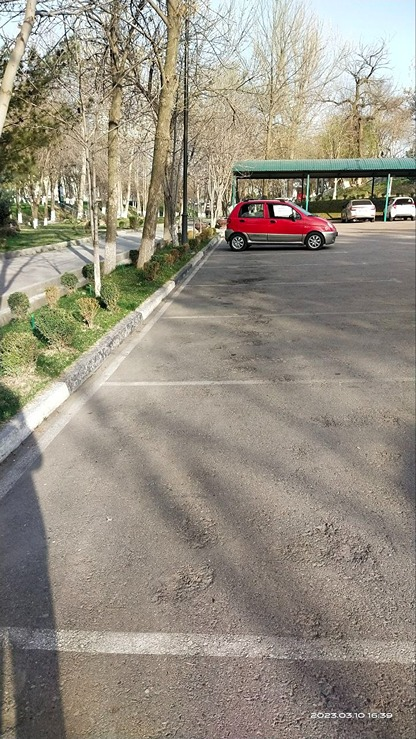car: (225, 190, 338, 259), (343, 192, 379, 219), (389, 193, 416, 222)
tree: (75, 0, 140, 262), (237, 1, 326, 153), (140, 0, 191, 247), (325, 22, 403, 151)
